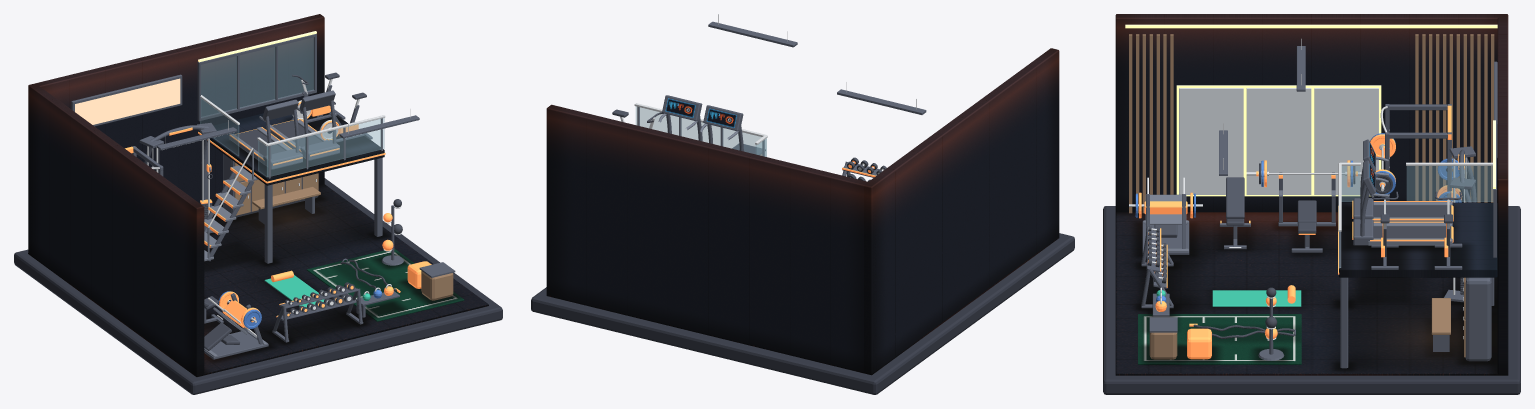
File: the-house-fit-gym.glb
The picture shows the model from 3 angles, left to right: view 1: azimuth 30°, elevation 25°; view 2: azimuth 150°, elevation 25°; view 3: azimuth 270°, elevation 25°; orthographic projection. The views are drawn at different scales.
Visible parts, largest first — view 1: THF_wallBaked, THF_floorBaked, THF_darkSteel, THF_plinthDark, THF_temperedGlass, THF_turfBaked, THF_loftBaked, THF_orangePowder, THF_Dynamic_Sign, THF_walnutWood, THF_gunmetal, THF_urethaneBlack (+4 smaller); view 2: THF_wallBaked, THF_plinthDark, THF_darkSteel, THF_temperedGlass, THF_floorBaked, THF_cardioOled; view 3: THF_wallBaked, THF_floorBaked, THF_mirrorGlass, THF_darkSteel, THF_walnutWood, THF_plinthDark, THF_loftBaked, THF_turfBaked, THF_neonOrange, THF_orangePowder, THF_temperedGlass, THF_urethaneBlack (+5 smaller).
Part boxes in pixels (left/top/right/bottom): THF_wallBaked: left=28, top=14, right=324, bottom=375; THF_floorBaked: left=28, top=184, right=488, bottom=376; THF_darkSteel: left=71, top=34, right=455, bottom=359; THF_plinthDark: left=14, top=178, right=502, bottom=394; THF_temperedGlass: left=200, top=37, right=384, bottom=177; THF_turfBaked: left=307, top=248, right=464, bottom=321; THF_loftBaked: left=199, top=112, right=384, bottom=185; THF_orangePowder: left=125, top=101, right=431, bottom=328; THF_Dynamic_Sign: left=75, top=78, right=180, bottom=124; THF_walnutWood: left=234, top=162, right=453, bottom=300; THF_gunmetal: left=159, top=105, right=382, bottom=356; THF_urethaneBlack: left=200, top=120, right=402, bottom=317; THF_wallBaked: left=546, top=48, right=1059, bottom=373; THF_plinthDark: left=531, top=233, right=1074, bottom=394; THF_darkSteel: left=662, top=21, right=926, bottom=177; THF_temperedGlass: left=636, top=106, right=766, bottom=156; THF_floorBaked: left=546, top=237, right=1059, bottom=375; THF_cardioOled: left=665, top=98, right=736, bottom=127; THF_wallBaked: left=1115, top=14, right=1508, bottom=374; THF_floorBaked: left=1115, top=212, right=1508, bottom=375; THF_mirrorGlass: left=1179, top=88, right=1378, bottom=194; THF_darkSteel: left=1141, top=46, right=1497, bottom=368; THF_walnutWood: left=1129, top=34, right=1494, bottom=359; THF_plinthDark: left=1103, top=206, right=1520, bottom=394; THF_loftBaked: left=1339, top=202, right=1497, bottom=277; THF_turfBaked: left=1138, top=314, right=1301, bottom=364; THF_neonOrange: left=1125, top=24, right=1497, bottom=196; THF_orangePowder: left=1139, top=105, right=1464, bottom=359; THF_temperedGlass: left=1339, top=166, right=1492, bottom=267; THF_urethaneBlack: left=1147, top=163, right=1463, bottom=338.
Bounding box in the file's own units: 6.98 × 3.95 × 6.98.
21 materials, 6 textured.
